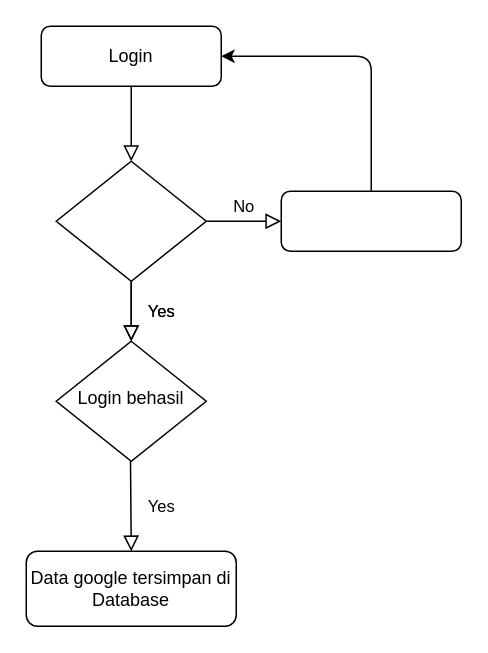
The diagram is 488 pixels wide and 653 high, and some of its shapes have lost their labels. The shapes that lost their labels are listed below. From the top down, each one's centre as x and y in pixels, then its label:
point 130,220: Pilih Akun googke
point 370,220: Login failed
